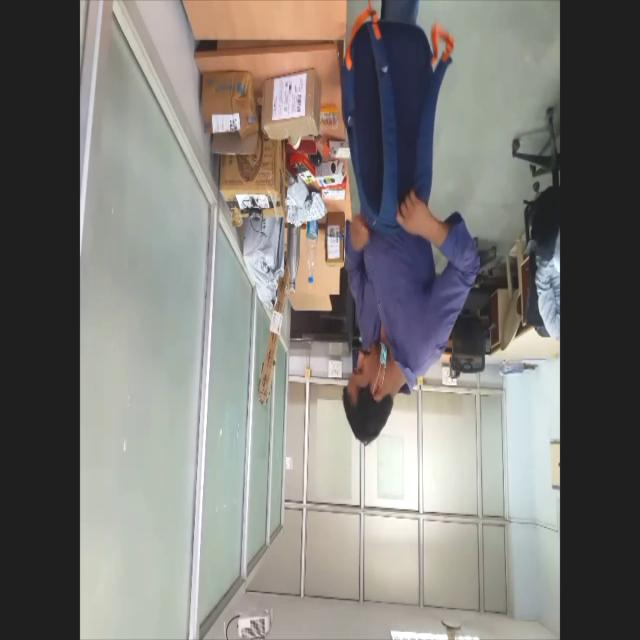normal: (331, 0, 486, 451)
